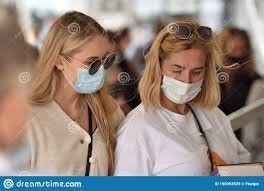with-mask: (37, 9, 118, 106), (149, 25, 212, 112)
